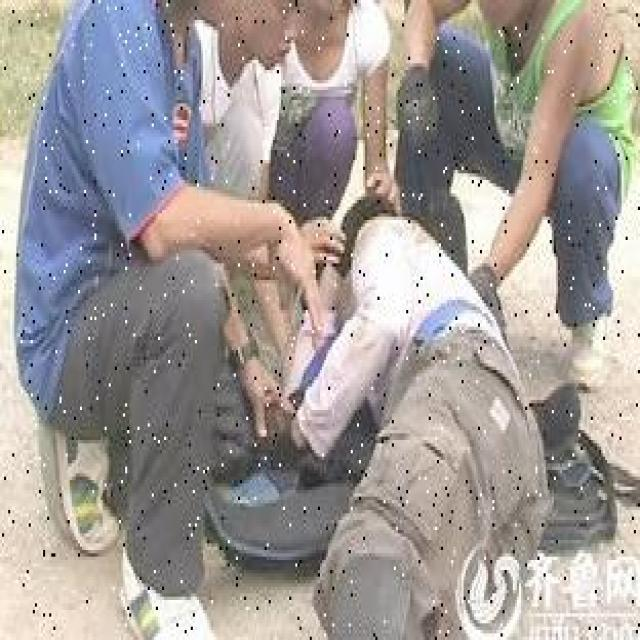fall: (308, 200, 513, 636)
